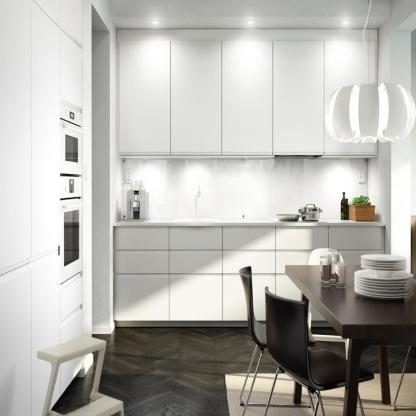Chair: (262, 285, 379, 416)
Table: (284, 263, 416, 416)
